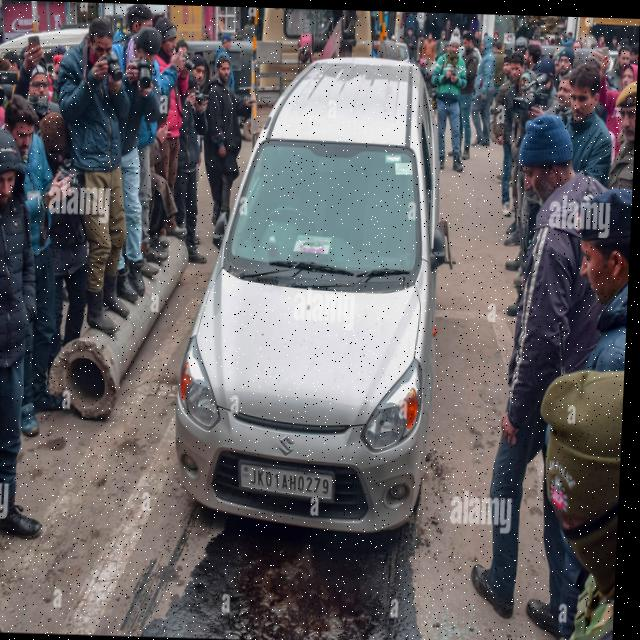plate: (238, 452, 343, 509)
